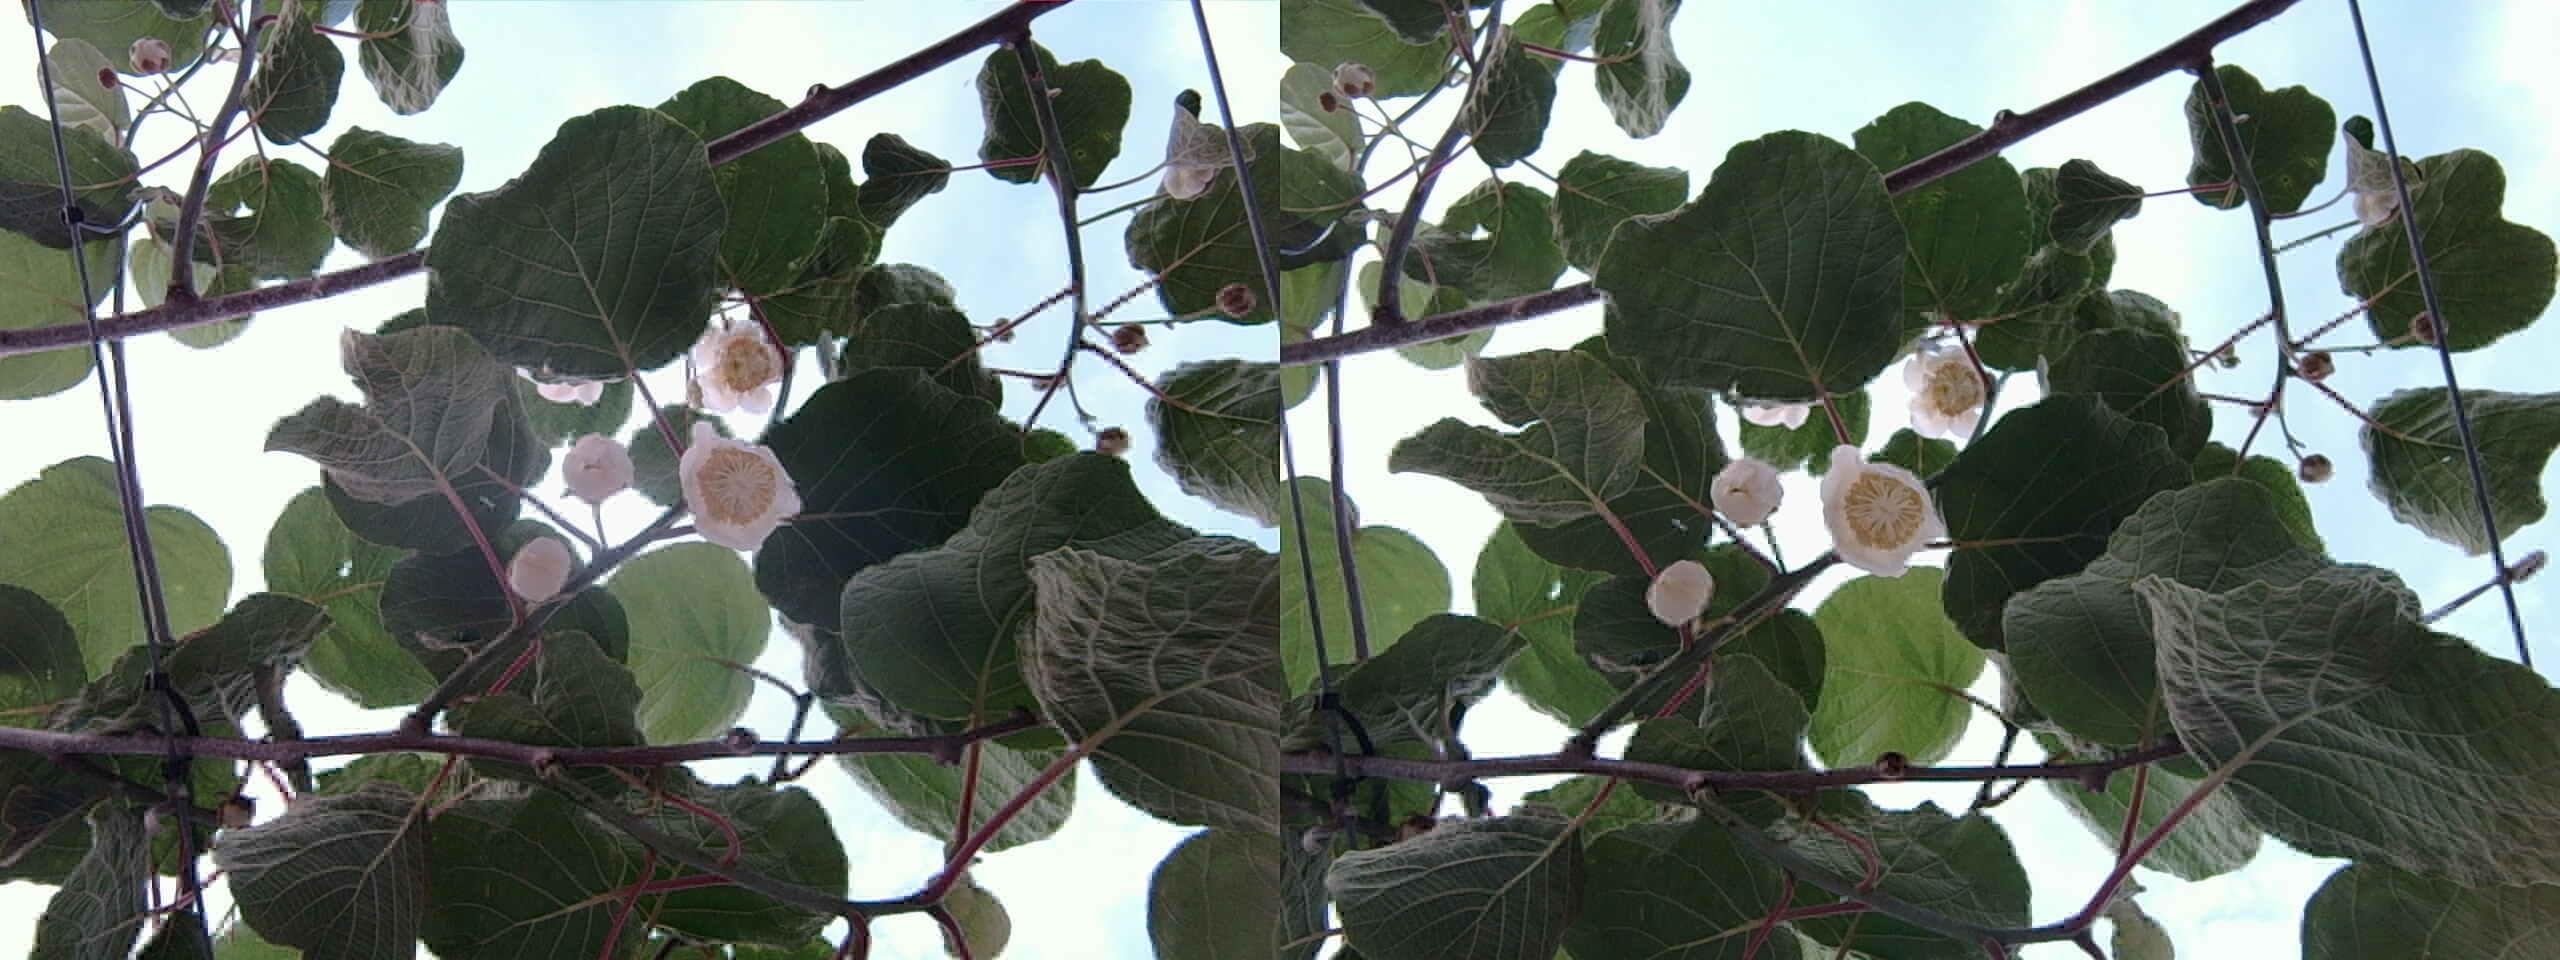flower: (1820, 446, 1940, 568), (681, 429, 797, 549), (686, 299, 787, 423)
